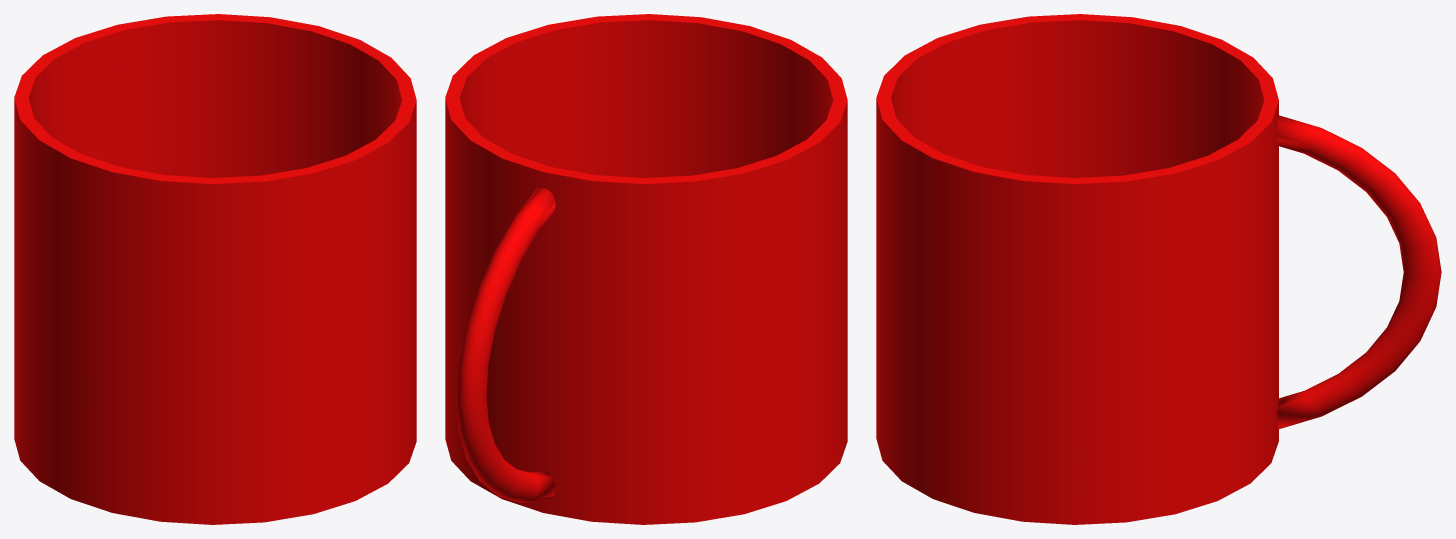
File: mug_965_4831669.glb
The picture shows the model from 3 angles, left to right: view 1: azimuth 30°, elevation 25°; view 2: azimuth 150°, elevation 25°; view 3: azimuth 270°, elevation 25°; orthographic projection.
Parts seen in each view (by area): view 1: model_normalized.008; view 2: model_normalized.008; view 3: model_normalized.008.
Boxes of the visible parts, x1,y1,x2,y2 form: model_normalized.008: [14, 14, 416, 524]; model_normalized.008: [445, 14, 847, 524]; model_normalized.008: [876, 14, 1441, 524].
Bounding box in the file's own units: 0.3562 × 0.3326 × 0.5.
